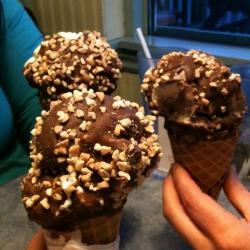icecream: (16, 92, 160, 223), (143, 47, 249, 146), (24, 28, 127, 100)
